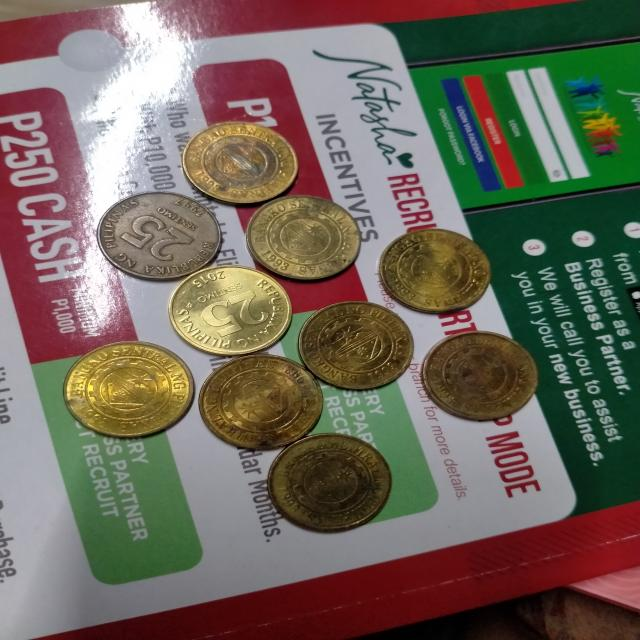25Cent_Old_Back: (65, 343, 194, 438), (384, 233, 489, 310)
25Cent_Old_Front: (178, 276, 276, 346)
